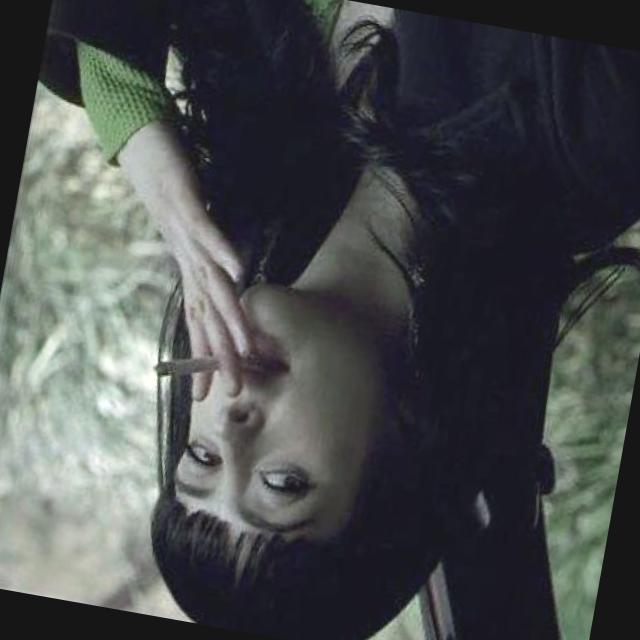smoke: (132, 318, 252, 409)
